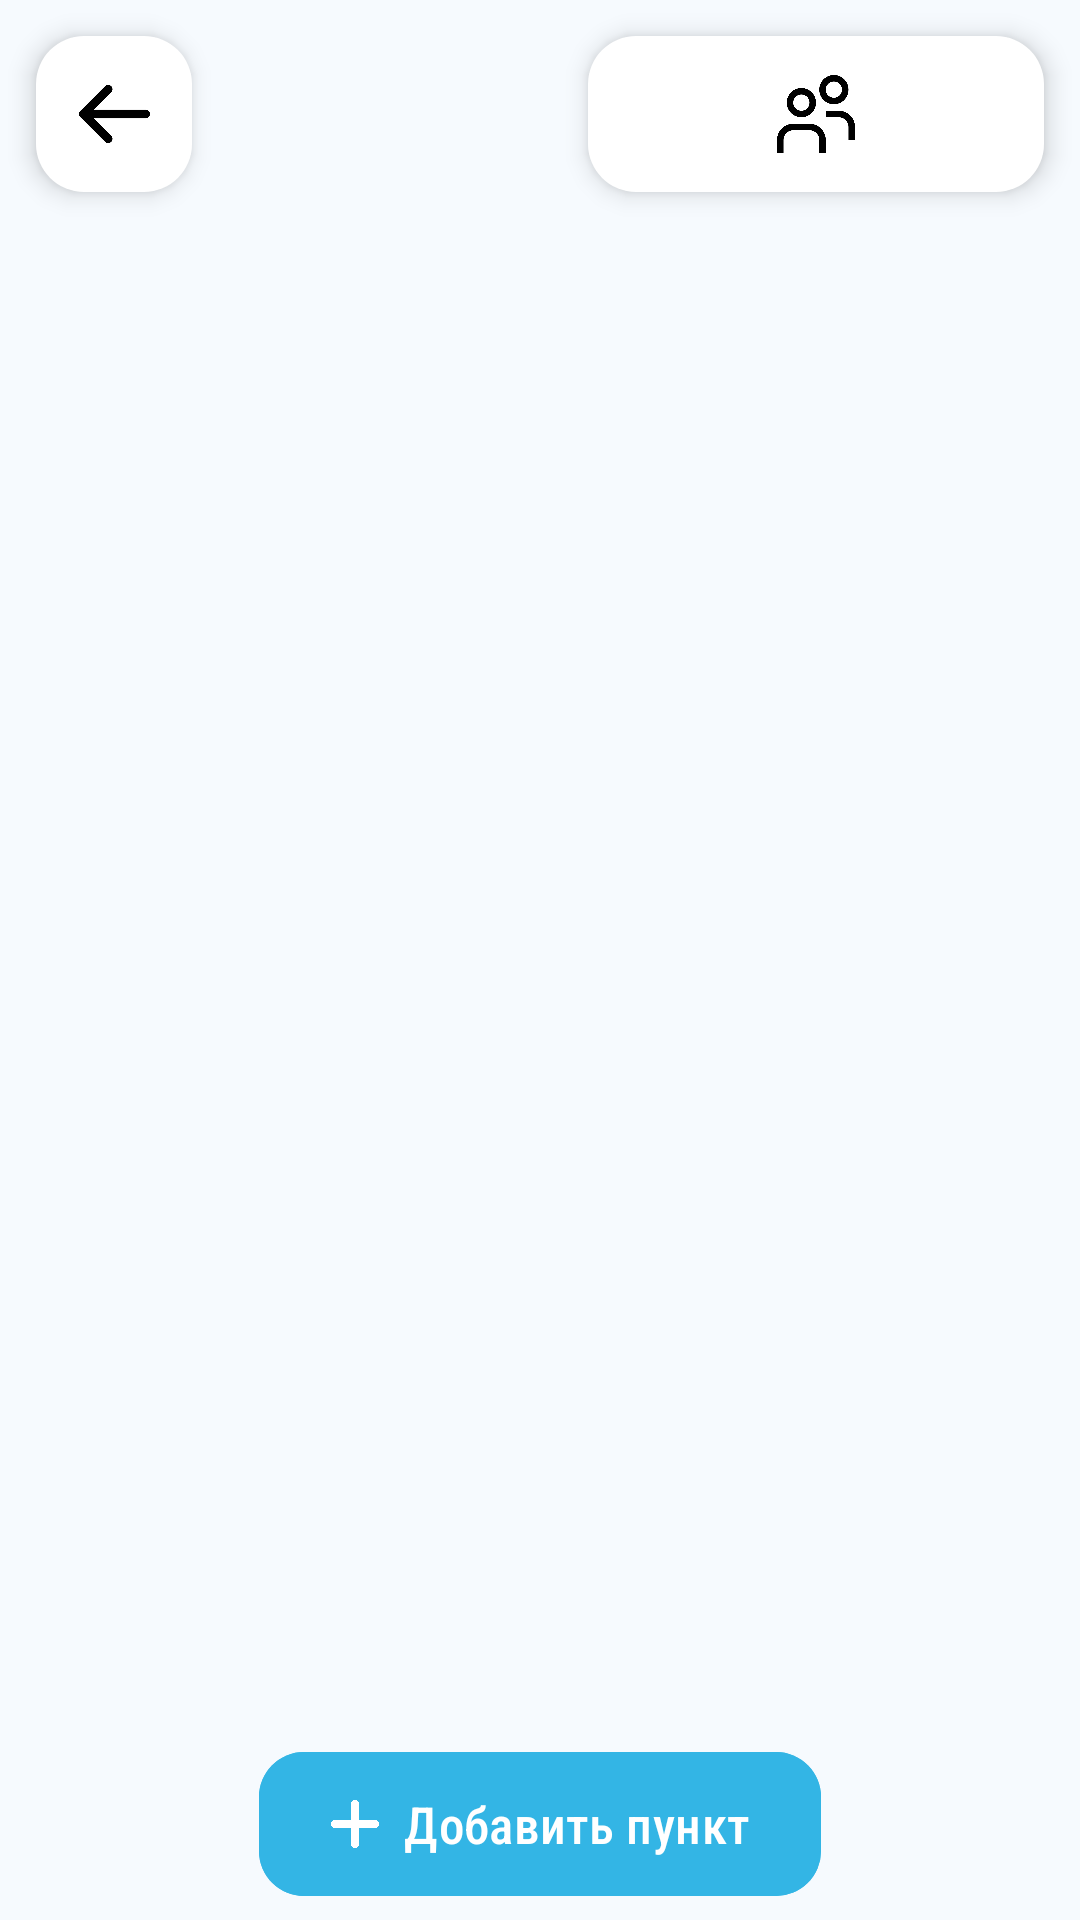

Where to tap for icons on this 1080x1920 app screen, as [x,y]:
back: [114,114]
users: [816,114]
